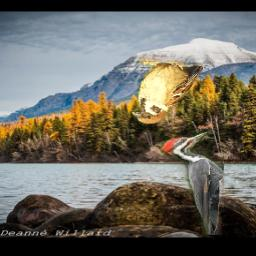Sparrow: (131, 58, 204, 124)
Woodpecker: (162, 131, 225, 235)
